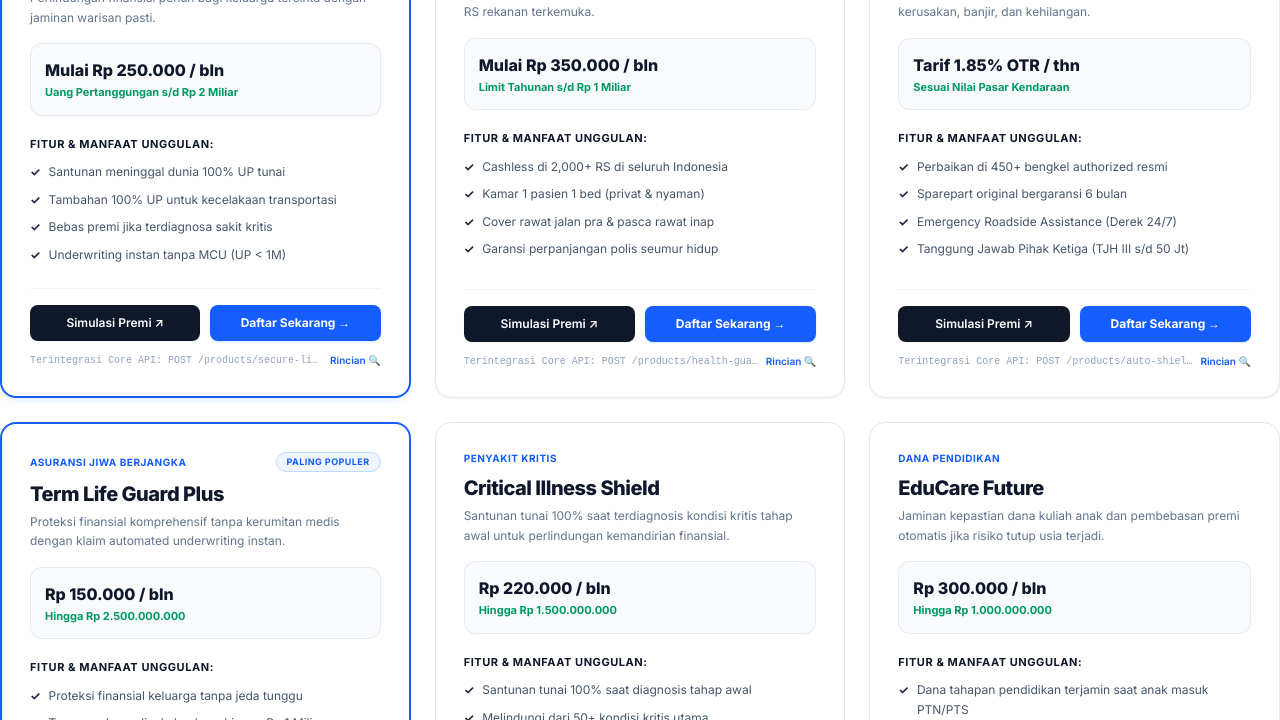
Test: ProductsPage & ProductCatalogWorkbench › opens product detail modal, views benefits & riders, and closes via X button, Escape key, or backdrop click
This screenshot has width=1280, height=720.
(page scrolled)
// Open modal via first Rincian button
Click the button "Rincian 🔍" next to "POST /products/secure-life-plus/quotes": (355, 361) [330, 353, 381, 368]
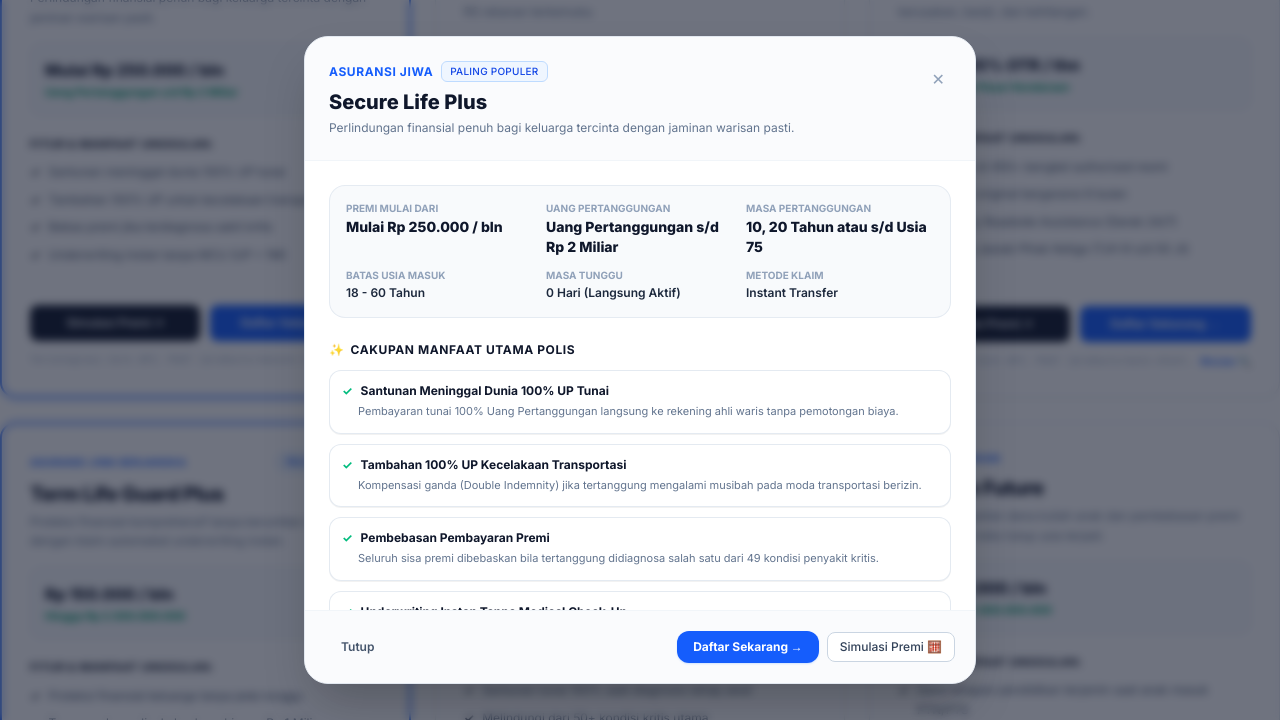
Result: the text "Cakupan Manfaat Utama Polis" is shown at [351, 342, 575, 358]
// Close via Escape key
Press Escape
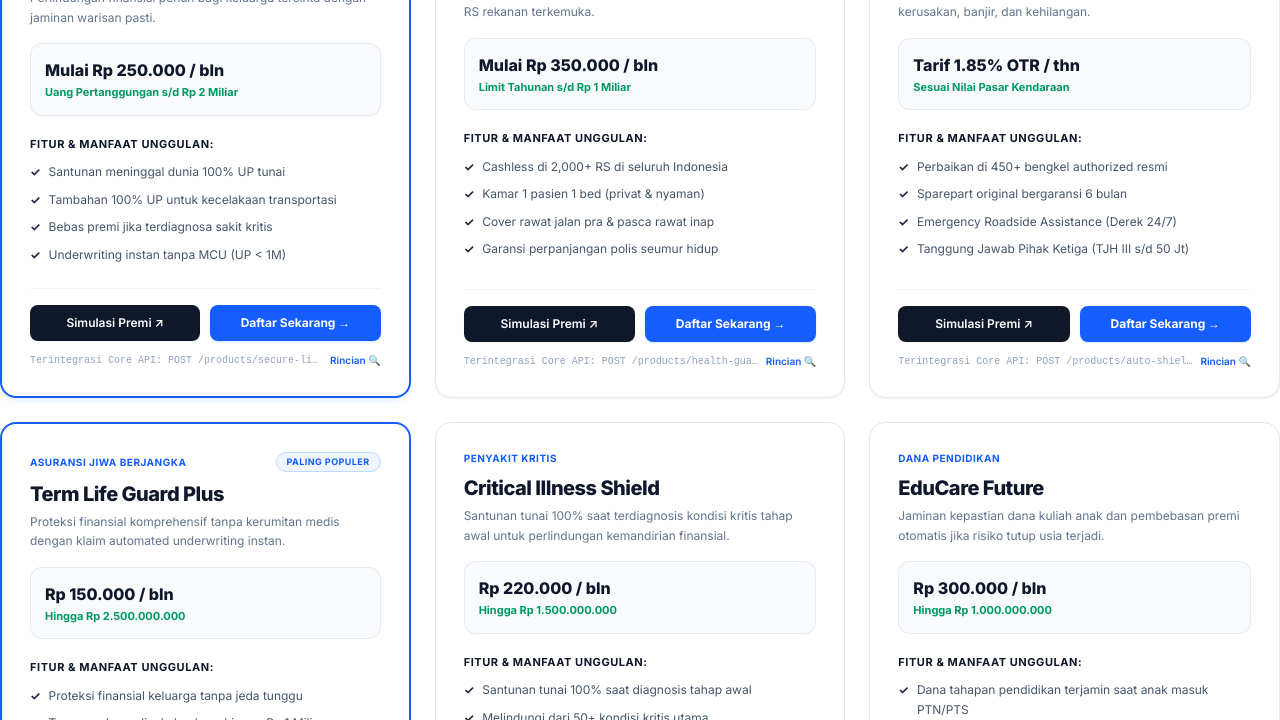
Result: the dialog is gone
// Re-open and close via backdrop click
Click the button "Rincian 🔍" next to "POST /products/secure-life-plus/quotes": (355, 361) [330, 353, 381, 368]
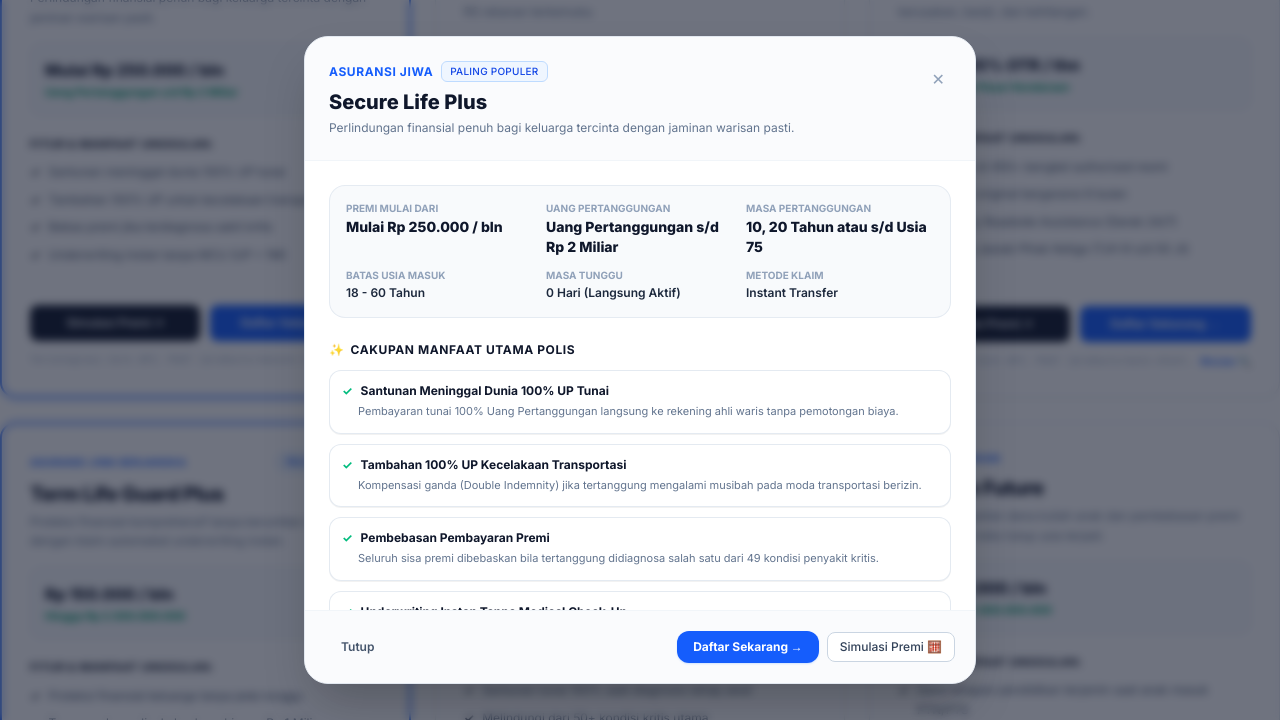
Click the dialog: (77, 360) [0, 0, 1279, 719]
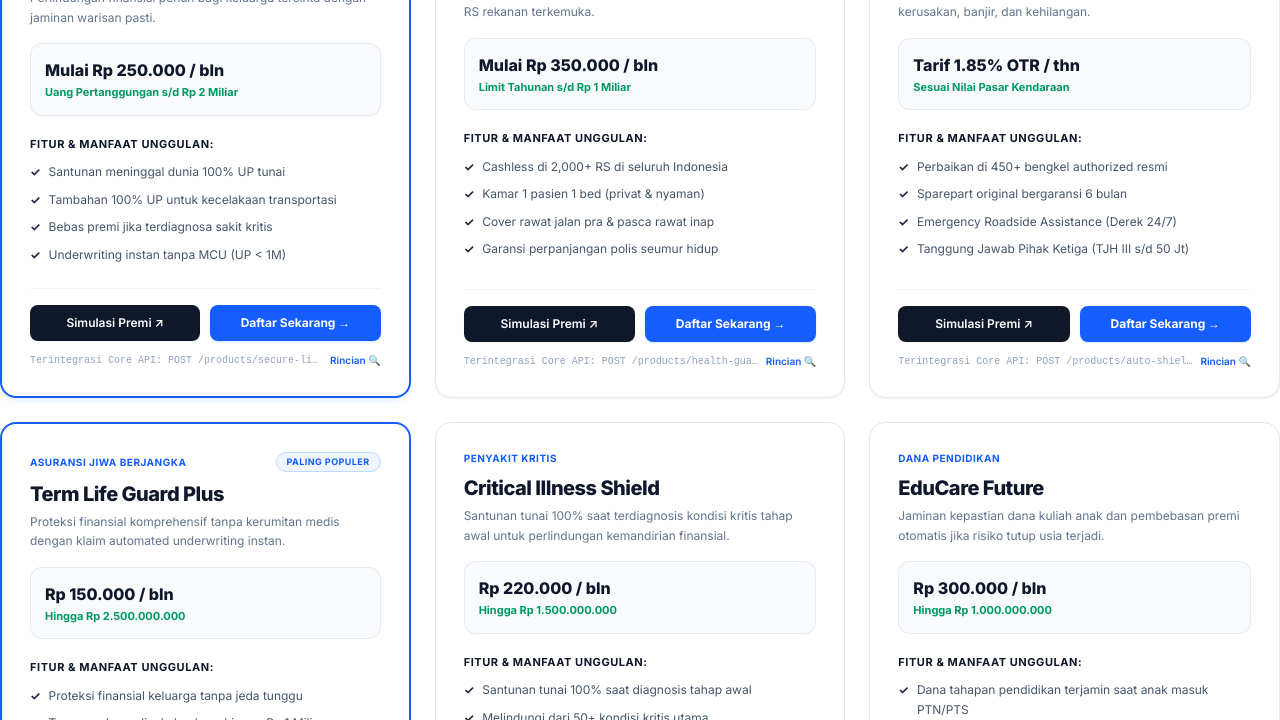
Result: the dialog is gone
// Re-open and close via Close button
Click the button "Rincian 🔍" next to "POST /products/secure-life-plus/quotes": (355, 361) [330, 353, 381, 368]
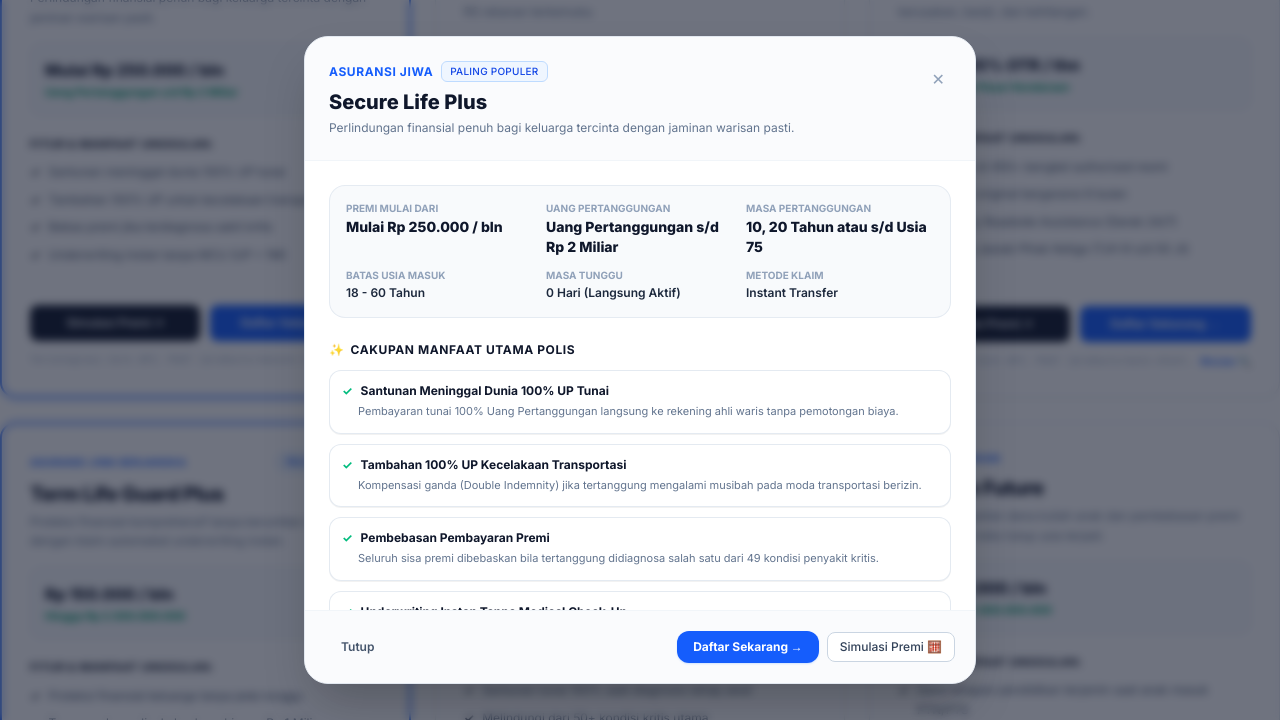
Result: the dialog is shown
Click the button named "Tutup Detail Produk": (938, 79) [926, 61, 951, 97]
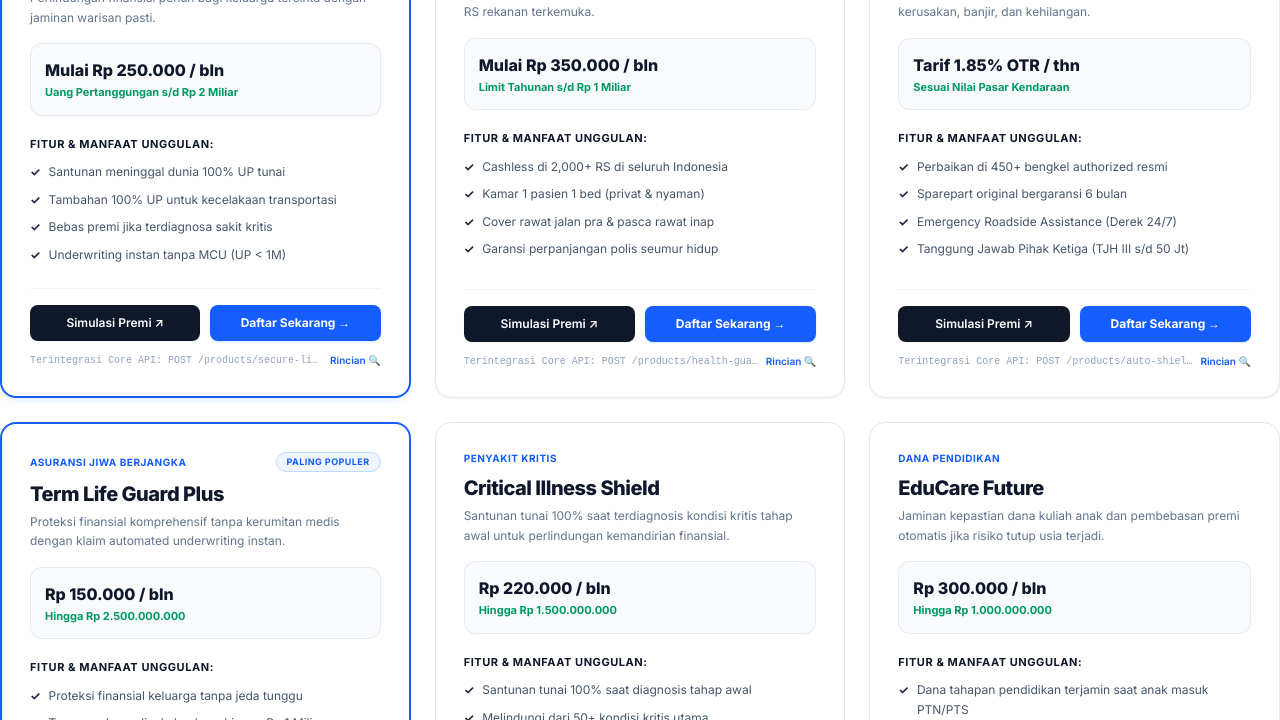
Result: the dialog is gone
